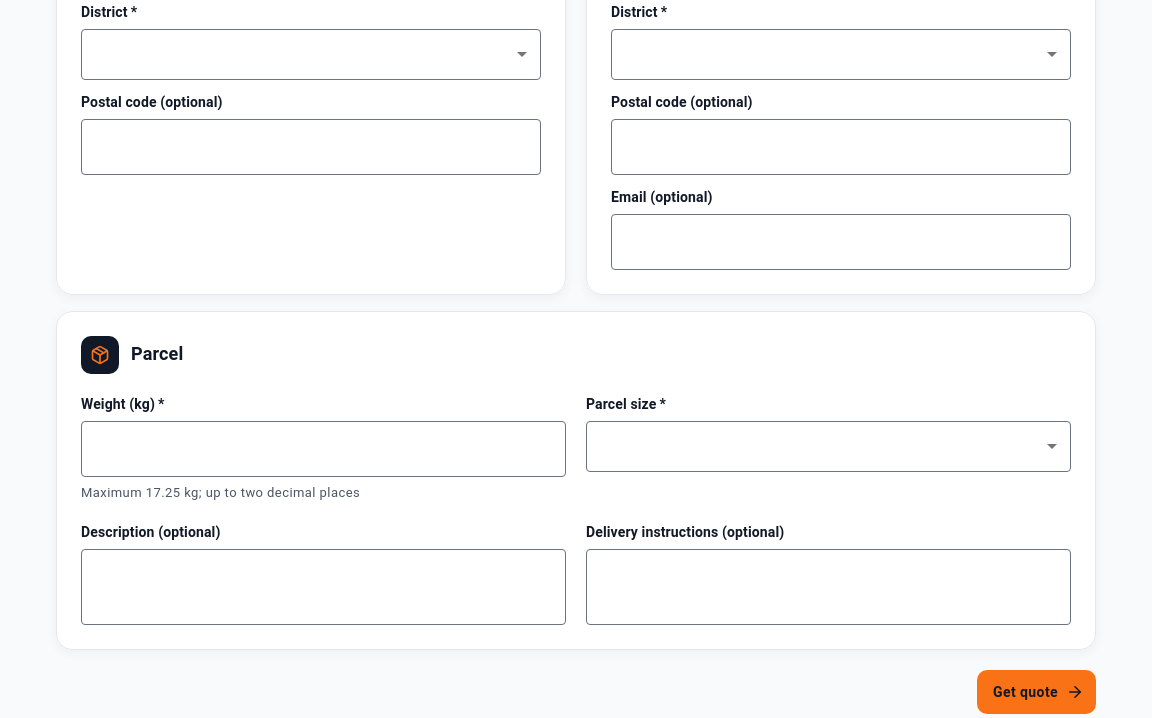
Scenario: TST-040 create parcel wizard › loads backend options, validates required fields and focuses an invalid field
The width and height of the screenshot is (1152, 718).
Later steps or results of the test are not shown.
(page scrolled)
Expected: the text "Maximum 17.25 kg; up to two decimal places" is shown, [81,485,360,500]
Click the button "Get quote".
click(1037, 692)  # box [977,670,1096,714]
(page scrolled)
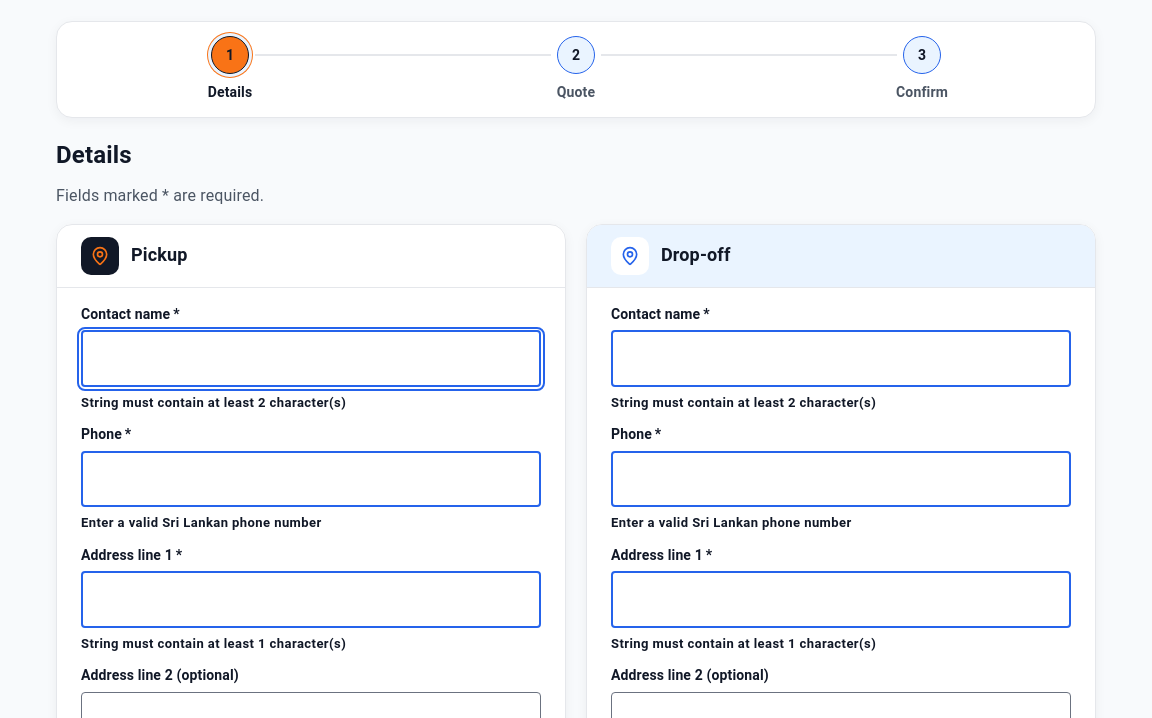
Expected: the field labelled "Contact name *" below "Pickup" is marked as invalid, [81,331,541,387]
